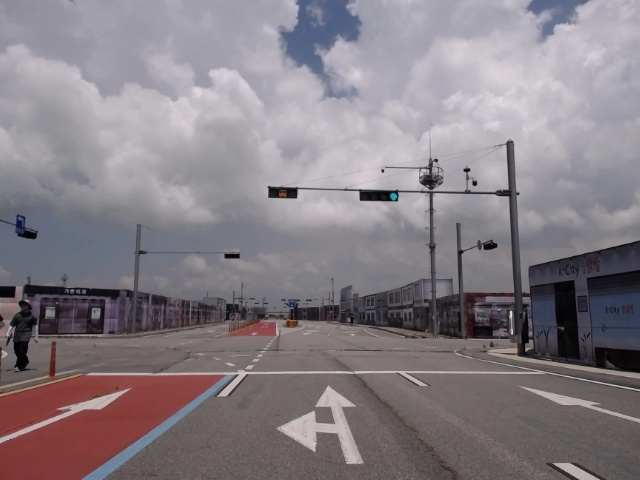straight_green_4: (359, 190, 401, 201)
